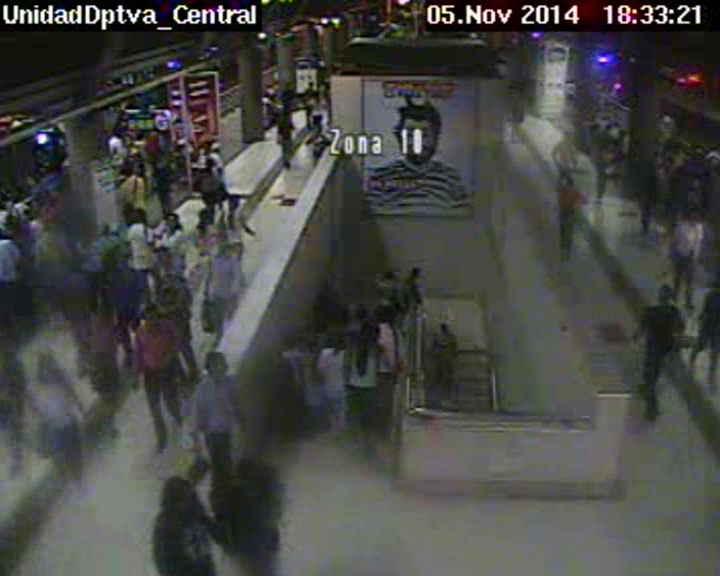person: (161, 474, 200, 514), (202, 350, 229, 380), (654, 279, 678, 307), (231, 457, 255, 480), (33, 353, 56, 377), (141, 303, 164, 326), (355, 321, 376, 346), (210, 233, 232, 254), (161, 254, 180, 274), (684, 207, 702, 226), (128, 207, 146, 225), (375, 303, 391, 323), (87, 301, 105, 318), (115, 254, 133, 271), (80, 224, 98, 241), (328, 331, 344, 350), (64, 254, 81, 271), (225, 193, 241, 211), (293, 330, 311, 346), (164, 211, 180, 228), (408, 264, 423, 281), (122, 166, 138, 181), (28, 199, 42, 216), (308, 124, 324, 138), (436, 321, 451, 335), (121, 133, 135, 148), (1, 223, 15, 237), (562, 177, 575, 191), (381, 270, 395, 283), (204, 157, 217, 169), (196, 226, 208, 239), (638, 176, 649, 189), (155, 153, 166, 166), (561, 132, 572, 144), (14, 191, 26, 202), (279, 111, 289, 122), (314, 91, 323, 101), (596, 146, 605, 156), (273, 81, 281, 90), (265, 84, 273, 92), (263, 92, 269, 98), (307, 82, 313, 88), (316, 83, 321, 88)
